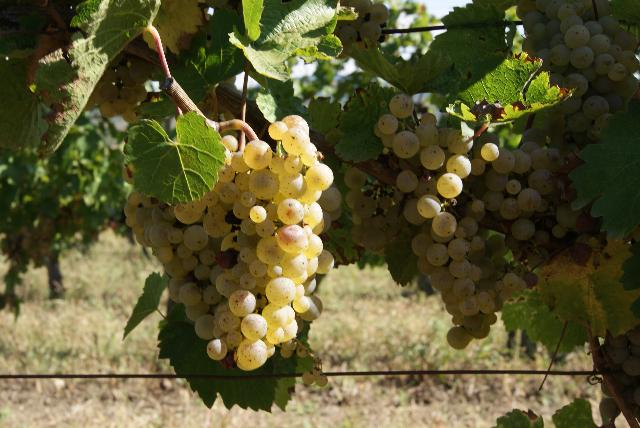grapes: (391, 122, 570, 349), (179, 115, 334, 371), (516, 0, 640, 135), (124, 191, 230, 302)
